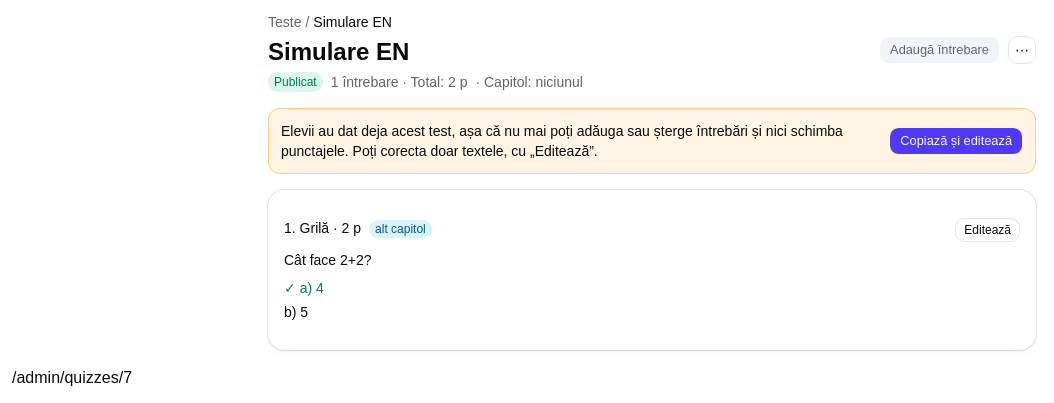
it: AdminQuizzesPage › un test dat deja de elevi › opens a copy to edit from the banner
Click the button "Copiază și editează" at (956, 141), box [889, 127, 1023, 155]
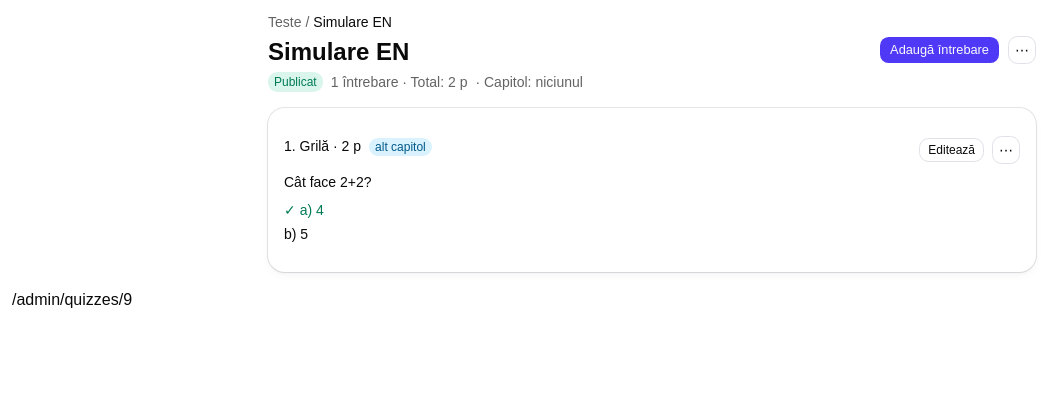
expect the text with test id "where" reads "/admin/quizzes/9": met, box [12, 291, 132, 308]
